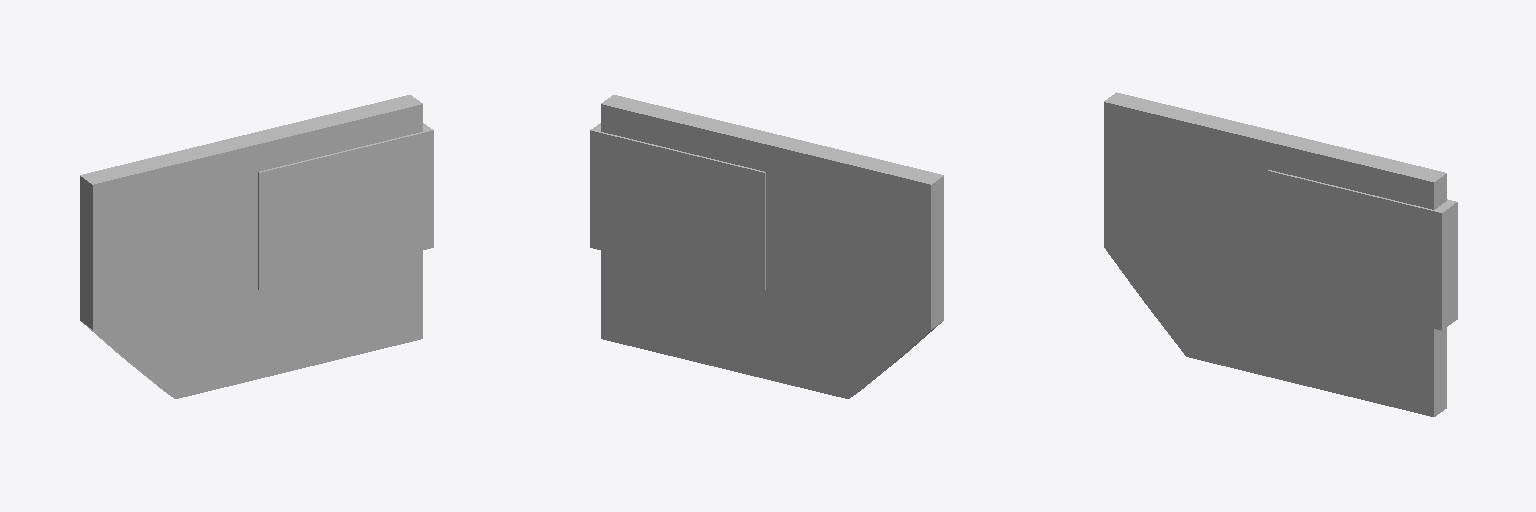
Rendered from Keycard.obj.
3 views of the same model, side by side, from view 1: azimuth 30°, elevation 25°; view 2: azimuth 150°, elevation 25°; view 3: azimuth 330°, elevation 25° (orthographic).
Parts seen in each view (by area): view 1: Keycard:pCube1; view 2: Keycard:pCube1; view 3: Keycard:pCube1.
Boxes of the visible parts, <box> form: Keycard:pCube1: <box>80,95,433,398</box>; Keycard:pCube1: <box>590,95,943,398</box>; Keycard:pCube1: <box>1104,92,1457,416</box>.
Size of the model in its own units: 151 by 100 by 12.04.